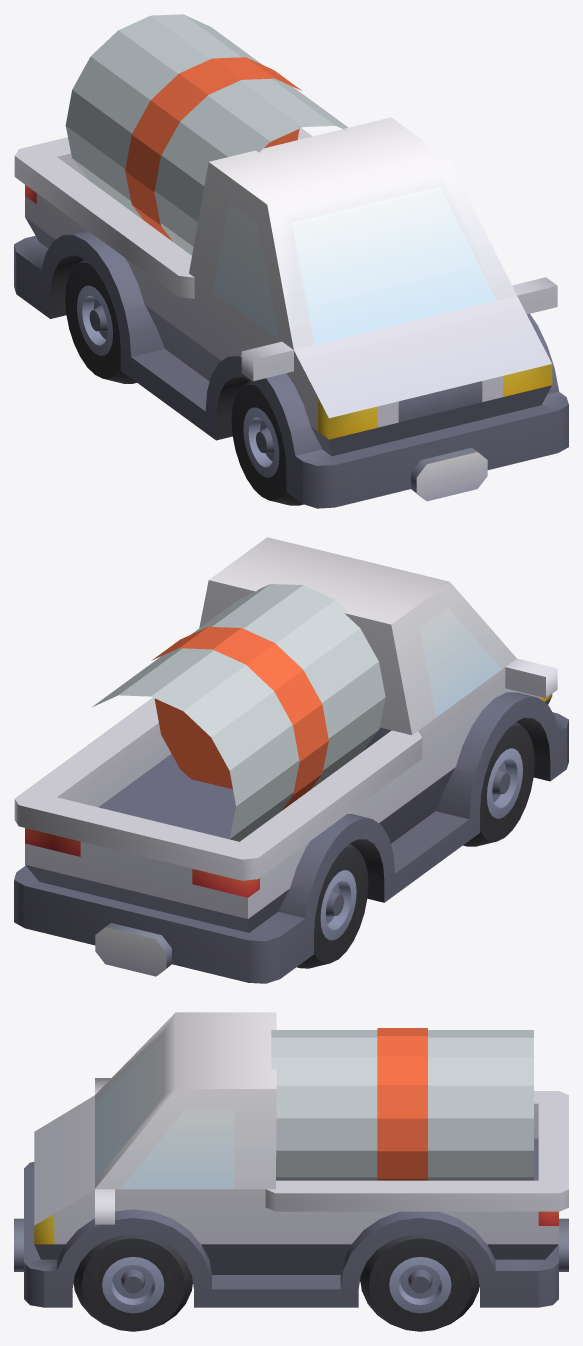
Rendered from tankbil.glb.
3 views of the same model, one above another, from view 1: azimuth 30°, elevation 25°; view 2: azimuth 150°, elevation 25°; view 3: azimuth 270°, elevation 25° (orthographic). The views are drawn at different scales.
Parts seen in each view (by area): view 1: body, till-tankbil, wheel-back-right, wheel-front-right; view 2: body, till-tankbil, wheel-front-right, wheel-back-right; view 3: body, till-tankbil, wheel-front-left, wheel-back-left.
Boxes of the visible parts, bbox=[...] form: body: bbox=[14, 117, 568, 508]; till-tankbil: bbox=[65, 14, 347, 255]; wheel-back-right: bbox=[65, 259, 136, 383]; wheel-front-right: bbox=[231, 380, 303, 505]; body: bbox=[14, 537, 568, 983]; till-tankbil: bbox=[91, 584, 385, 841]; wheel-front-right: bbox=[463, 721, 534, 846]; wheel-back-right: bbox=[297, 843, 368, 968]; body: bbox=[14, 1012, 568, 1307]; till-tankbil: bbox=[271, 1028, 533, 1180]; wheel-front-left: bbox=[73, 1234, 192, 1331]; wheel-back-left: bbox=[360, 1234, 479, 1331].
Size of the model in its own units: 1.5 by 1.38 by 2.75.
Materials: 5 (1 with a texture image).
